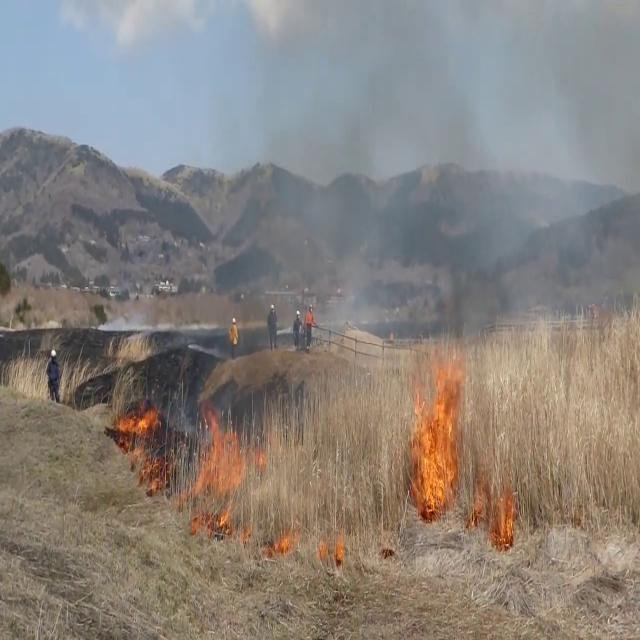Fire: (408, 348, 464, 516), (193, 404, 251, 526), (116, 393, 162, 444)
Smoke: (288, 1, 640, 358)
